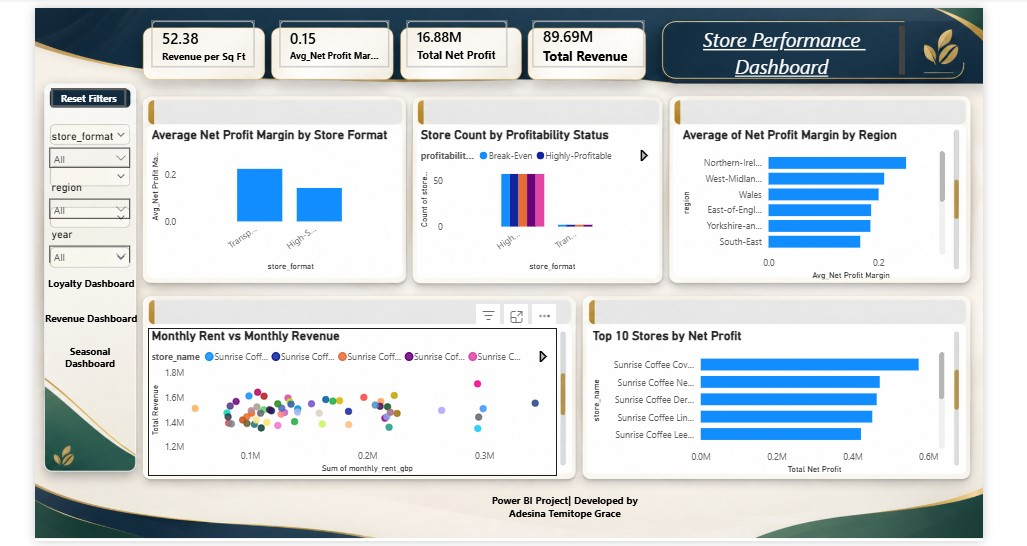

This screenshot's page, from the dashboard's own definition file:
{"tool":"powerbi","page":{"name":"Store Dashboard","canvas":[1280,720],"ordinal":1},"visuals":[{"type":"clusteredBarChart","title":"Top 10 Stores by Net Profit","fields":{"Category":["dim_store.store_name"],"Y":["Measure Table.Total Net Profit"]},"box":[748.6,432.9,485.7,201.4],"z":0},{"type":"clusteredColumnChart","title":"Average Net Profit Margin by Store Format","fields":{"Category":["dim_store.store_format"],"Y":["Measure Table.Average Net Profit Margin"]},"box":[152.9,161.4,342.9,198.6],"z":1000},{"type":"barChart","title":"Average of Net Profit Margin by Region","fields":{"Category":["dim_store.region"],"Y":["Measure Table.Average Net Profit Margin"]},"box":[869.8,161,364.7,210.6],"z":2000},{"type":"scatterChart","title":"Monthly Rent vs Monthly Revenue","fields":{"X":["Sum(fact_store_monthly_profitability.monthly_rent_gbp)"],"Series":["dim_store.store_name"],"Y":["Measure Table.Total Revenue"]},"box":[152.9,432.9,552.9,200],"z":3000},{"type":"clusteredColumnChart","title":"Store Count by Profitability Status","fields":{"Category":["dim_store.store_format"],"Y":["CountNonNull(dim_store.store_id)"],"Series":["fact_store_monthly_profitability.profitability_status"]},"box":[515.7,161.4,325.7,198.6],"z":4000},{"type":"actionButton","title":"Loyalty Dashboard","box":[9.6,351,133.5,39.9],"z":5000},{"type":"actionButton","title":"Revenue Dashboard","box":[10,391.4,132.9,52.9],"z":6000},{"type":"actionButton","title":"Seasonal Dashboard","box":[10,444.3,130,54.3],"z":7000},{"type":"slicer","fields":{"Values":["dim_date.year"]},"box":[9.6,293.2,129.4,50.9],"z":8000},{"type":"slicer","fields":{"Values":["dim_store.region"]},"box":[9.6,229.8,129.4,63.3],"z":9000},{"type":"slicer","fields":{"Values":["dim_store.store_format"]},"box":[9.6,161,129.4,68.8],"z":10000},{"type":"textbox","box":[844.3,18.6,335.7,78.6],"z":11000},{"type":"textbox","box":[587.7,651,256,46.8],"z":12000},{"type":"actionButton","title":"Reset Filters","box":[22,108.7,101.8,26.2],"z":13000},{"type":"cardVisual","fields":{"Data":["Measure Table.Revenue per Sq Ft"]},"box":[140.4,0,173.4,97.7],"z":14000},{"type":"cardVisual","fields":{"Data":["Measure Table.Avg_Net Profit Margin"]},"box":[312.9,0,182.9,97.1],"z":15000},{"type":"cardVisual","fields":{"Data":["Measure Table.Total Net Profit"]},"box":[484.5,0,170.7,97.7],"z":16000},{"type":"cardVisual","fields":{"Data":["Measure Table.Total Revenue"]},"box":[655.1,0,185.8,97.7],"z":17000}]}

Visuals, with their boxes on the page's 1280x720 design canvas (x1, y1, x2, y2). These are canvas units, not pixel positions in the 1027x546 screenshot, which may show the page scaled, cropped or inside an application window:
"Top 10 Stores by Net Profit" clusteredBarChart: {"x1": 749, "y1": 433, "x2": 1234, "y2": 634}
"Average Net Profit Margin by Store Format" clusteredColumnChart: {"x1": 153, "y1": 161, "x2": 496, "y2": 360}
"Average of Net Profit Margin by Region" barChart: {"x1": 870, "y1": 161, "x2": 1234, "y2": 372}
"Monthly Rent vs Monthly Revenue" scatterChart: {"x1": 153, "y1": 433, "x2": 706, "y2": 633}
"Store Count by Profitability Status" clusteredColumnChart: {"x1": 516, "y1": 161, "x2": 841, "y2": 360}
"Loyalty Dashboard" actionButton: {"x1": 10, "y1": 351, "x2": 143, "y2": 391}
"Revenue Dashboard" actionButton: {"x1": 10, "y1": 391, "x2": 143, "y2": 444}
"Seasonal Dashboard" actionButton: {"x1": 10, "y1": 444, "x2": 140, "y2": 499}
slicer - dim_date.year: {"x1": 10, "y1": 293, "x2": 139, "y2": 344}
slicer - dim_store.region: {"x1": 10, "y1": 230, "x2": 139, "y2": 293}
slicer - dim_store.store_format: {"x1": 10, "y1": 161, "x2": 139, "y2": 230}
textbox: {"x1": 844, "y1": 19, "x2": 1180, "y2": 97}
textbox: {"x1": 588, "y1": 651, "x2": 844, "y2": 698}
"Reset Filters" actionButton: {"x1": 22, "y1": 109, "x2": 124, "y2": 135}
cardVisual - Measure Table.Revenue per Sq Ft: {"x1": 140, "y1": 0, "x2": 314, "y2": 98}
cardVisual - Measure Table.Avg_Net Profit Margin: {"x1": 313, "y1": 0, "x2": 496, "y2": 97}
cardVisual - Measure Table.Total Net Profit: {"x1": 484, "y1": 0, "x2": 655, "y2": 98}
cardVisual - Measure Table.Total Revenue: {"x1": 655, "y1": 0, "x2": 841, "y2": 98}
